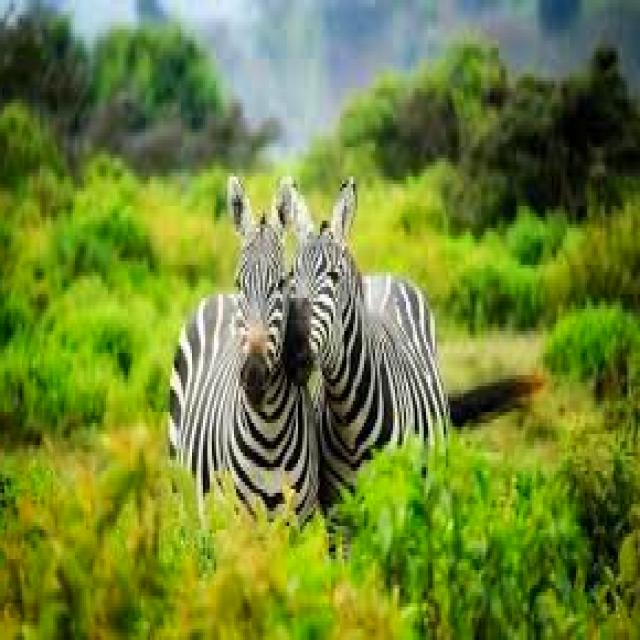zebra: (170, 177, 527, 519)
